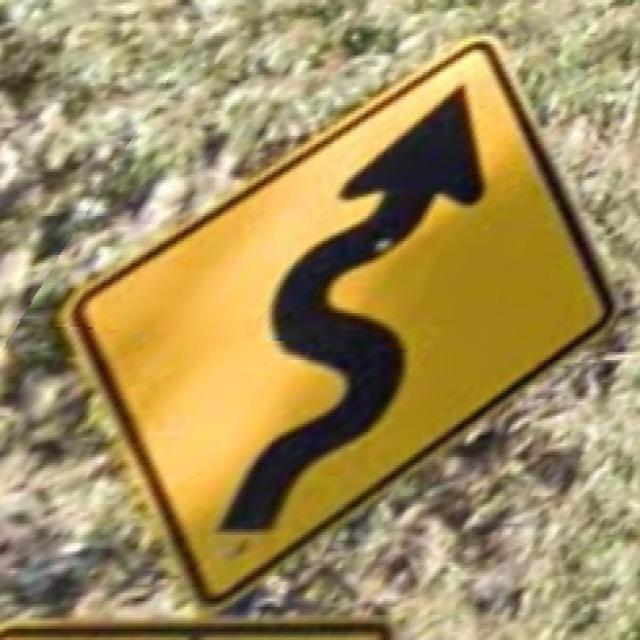Banyak Tikungan Pertama Kanan: (61, 25, 616, 612)
